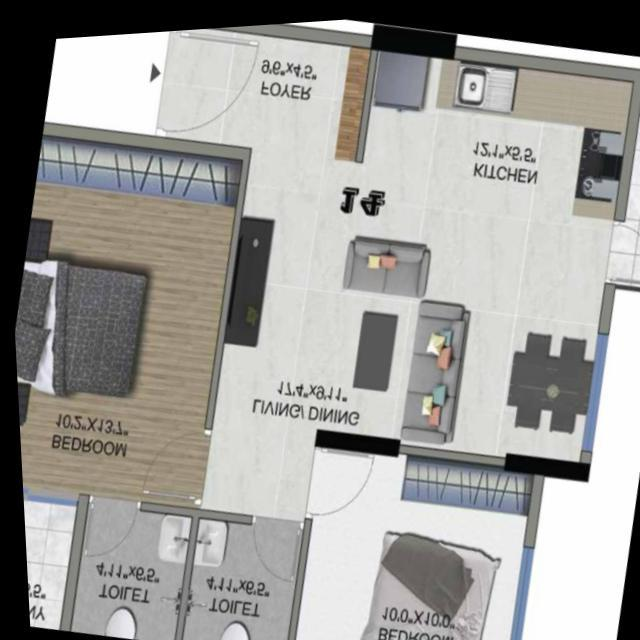Balcony-Sitout: (19, 495, 66, 621)
Bedroom: (292, 445, 530, 640)
Bedroom with Toilet: (12, 122, 242, 638)
Dining: (494, 326, 598, 437)
Enterance-Foyer: (139, 24, 359, 151)
Kitchen: (357, 37, 630, 220)
Living: (205, 175, 496, 444)
Toilet: (67, 500, 181, 637), (178, 516, 292, 640)
Utility: (620, 143, 640, 281)
